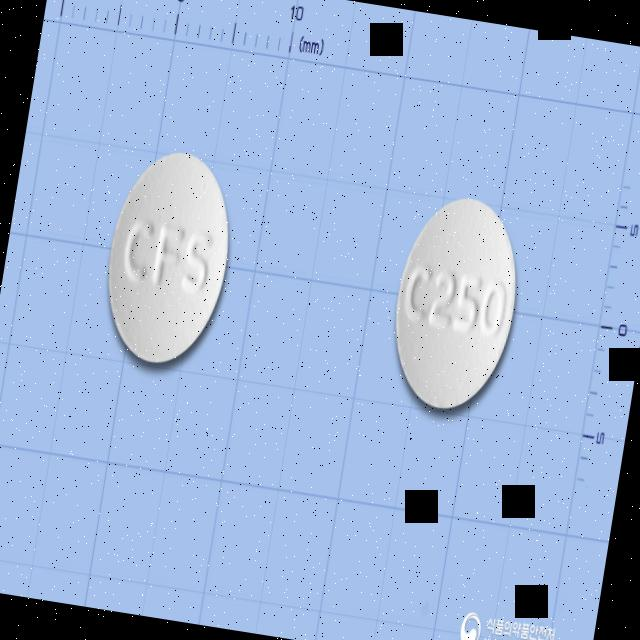Cipaxin: (377, 183, 535, 429), (89, 139, 248, 380)
